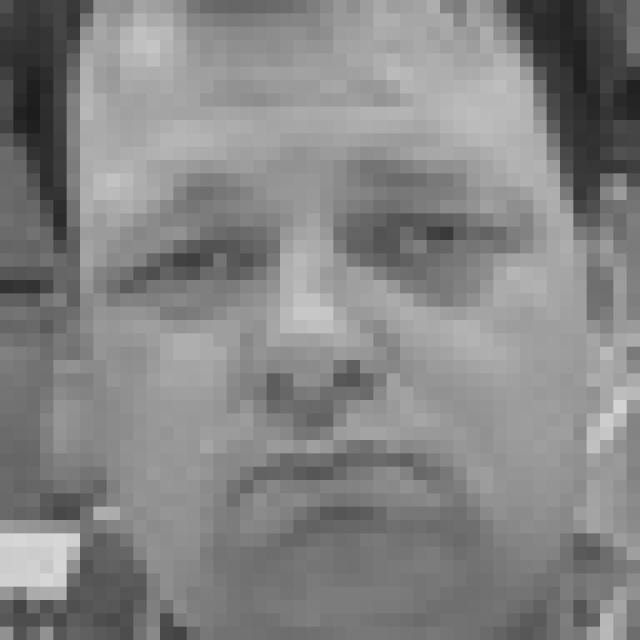neutral: (105, 149, 546, 533)
